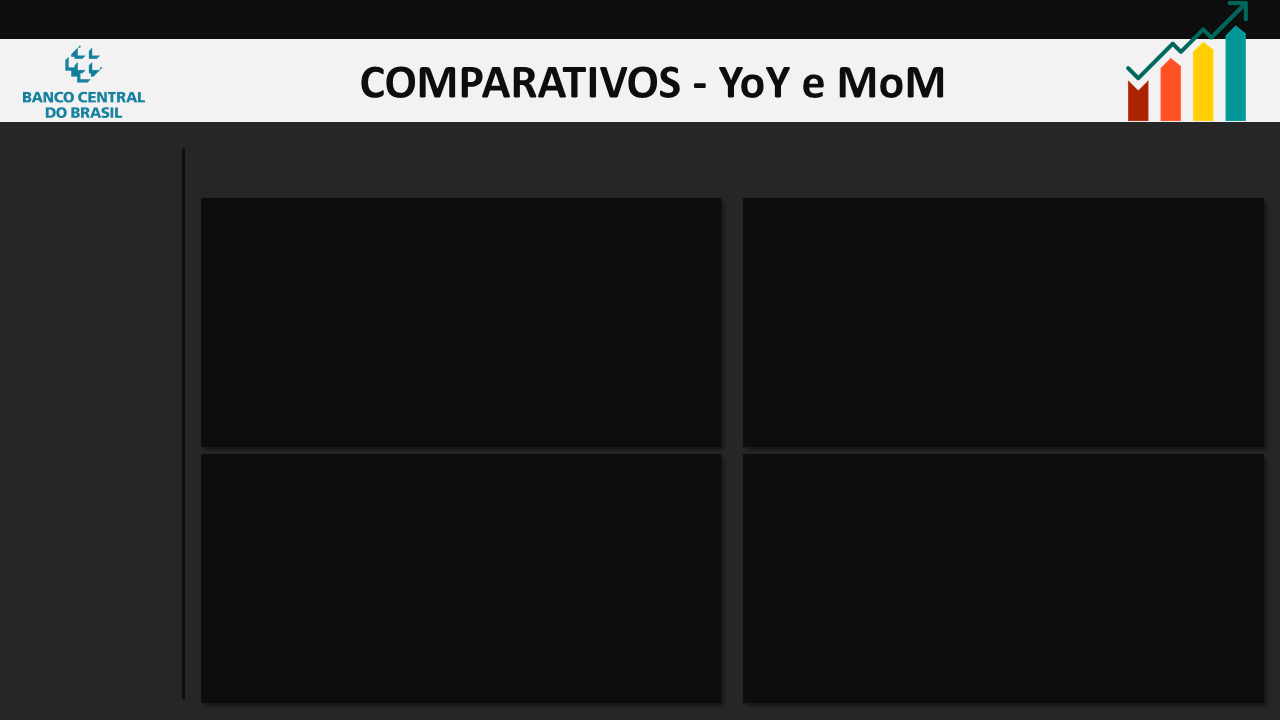

The page's visual inventory and layout, read from the dashboard file:
{"tool":"powerbi","page":{"name":"Comparativos","canvas":[1280,720],"ordinal":1},"visuals":[{"type":"slicer","fields":{"Values":["Consulta_Comparações.#Nome_da_Administradora"]},"box":[0,145.2,181.6,301.1],"z":0},{"type":"clusteredColumnChart","title":"Cotas Comercializadas","fields":{"Category":["Calendario.Ano","Calendario.Nome mes"],"Y":["_Medidas_Comparacoes.Dif_MoM_Comercializadas"]},"box":[200.7,196.8,520.2,251.3],"z":1000},{"type":"slicer","fields":{"Values":["Calendario.Ano"]},"box":[200.2,119.3,389.1,76.7],"z":2000},{"type":"clusteredColumnChart","title":"Cotas Canceladas - Acumulativo","fields":{"Category":["Calendario.Ano","Calendario.Nome mes"],"Y":["_Medidas_Comparacoes.Dif_MoM_Canceladas"]},"box":[745.1,451.2,516.1,246.1],"z":3000},{"type":"textbox","title":"Titulo Painel","box":[0,0,1279.5,35.5],"z":5000},{"type":"actionButton","title":"Barra Selecionado","box":[657.8,134.1,149.8,45.7],"z":8000},{"type":"actionButton","title":"Tabela Branco","box":[818,133.5,150.5,46.9],"z":10000},{"type":"actionButton","box":[36.9,0,88,35.5],"z":14000},{"type":"slicer","fields":{"Values":["Consulta_Comparações.#Nome_da_Administradora"]},"box":[0,146.3,183.2,360.7],"z":15000},{"type":"slicer","fields":{"Values":["Consulta_Comparações.Segmentação"]},"box":[0,509.8,183.2,197.4],"z":16000},{"type":"clusteredColumnChart","title":"Cotas Ativas - Acumulativo","fields":{"Category":["Calendario.Ano","Calendario.Nome mes"],"Y":["_Medidas_Comparacoes.Dif_MoM_Ativas"]},"box":[201.2,450.1,520.6,251.5],"z":20500},{"type":"clusteredColumnChart","title":"Cotas Contempladas","fields":{"Category":["Calendario.Ano","Calendario.Nome mes"],"Y":["_Medidas_Comparacoes.Dif_MoM_Contempladas"]},"box":[744.2,196.8,520.2,251.3],"z":21000}]}

Visuals, with their boxes in screenshot pixels (x1, y1, x2, y2), scaled from the page's 1280x720 canvas onto the 1280x720 screenshot:
slicer - Consulta_Comparações.#Nome_da_Administradora: 0,145,182,446
"Cotas Comercializadas" clusteredColumnChart: 201,197,721,448
slicer - Calendario.Ano: 200,119,589,196
"Cotas Canceladas - Acumulativo" clusteredColumnChart: 745,451,1261,697
"Titulo Painel" textbox: 0,0,1279,36
"Barra Selecionado" actionButton: 658,134,808,180
"Tabela Branco" actionButton: 818,134,968,180
actionButton: 37,0,125,36
slicer - Consulta_Comparações.#Nome_da_Administradora: 0,146,183,507
slicer - Consulta_Comparações.Segmentação: 0,510,183,707
"Cotas Ativas - Acumulativo" clusteredColumnChart: 201,450,722,702
"Cotas Contempladas" clusteredColumnChart: 744,197,1264,448
